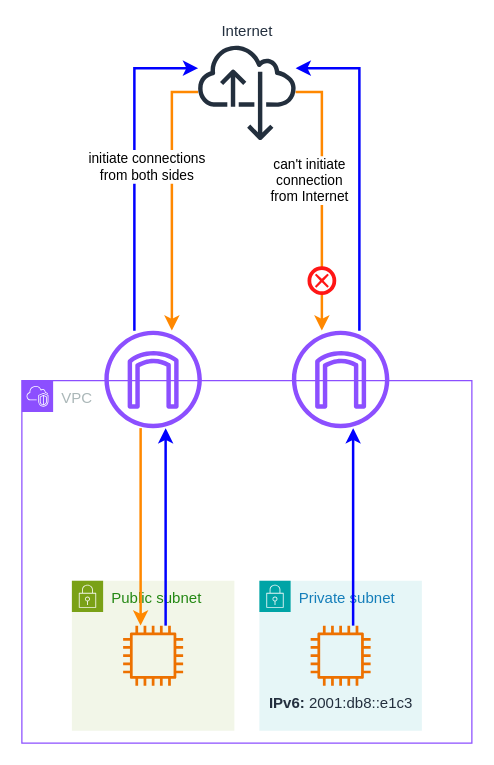
The diagram is 494 pixels wide and 765 high, and some of its shapes have lost their labels. Here are the shapes that lost their labels. From the top down, the centre of each, then its label:
At pixel 152 379: "Internet Gateway".
At pixel 340 379: "Egress-only Internet Gateway".
At pixel 152 655: "IPv6: 2001:db8::b1c2".
